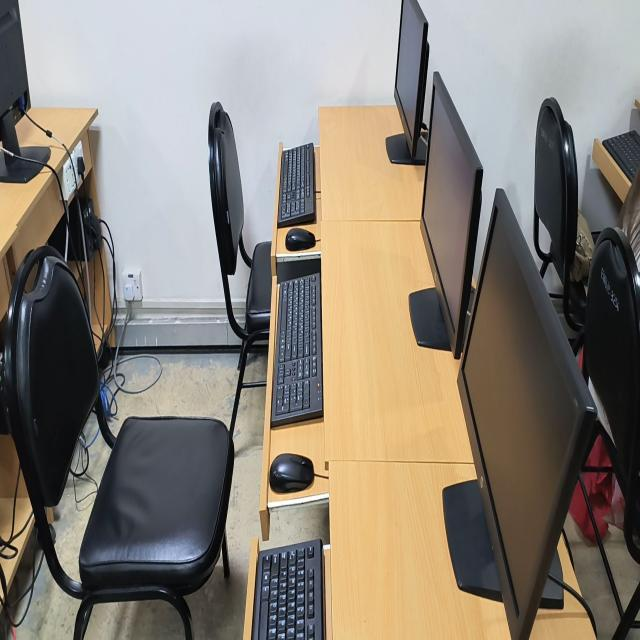Chair: (0, 247, 234, 639), (208, 102, 272, 435), (584, 228, 640, 563), (533, 98, 585, 331)
Keyboard: (271, 274, 323, 426), (252, 539, 323, 639), (278, 143, 314, 226), (602, 130, 640, 181)
Monitor: (443, 189, 597, 639), (409, 72, 483, 359), (0, 0, 50, 183), (388, 0, 429, 164)
Mouse: (269, 453, 315, 493), (286, 228, 316, 251)
